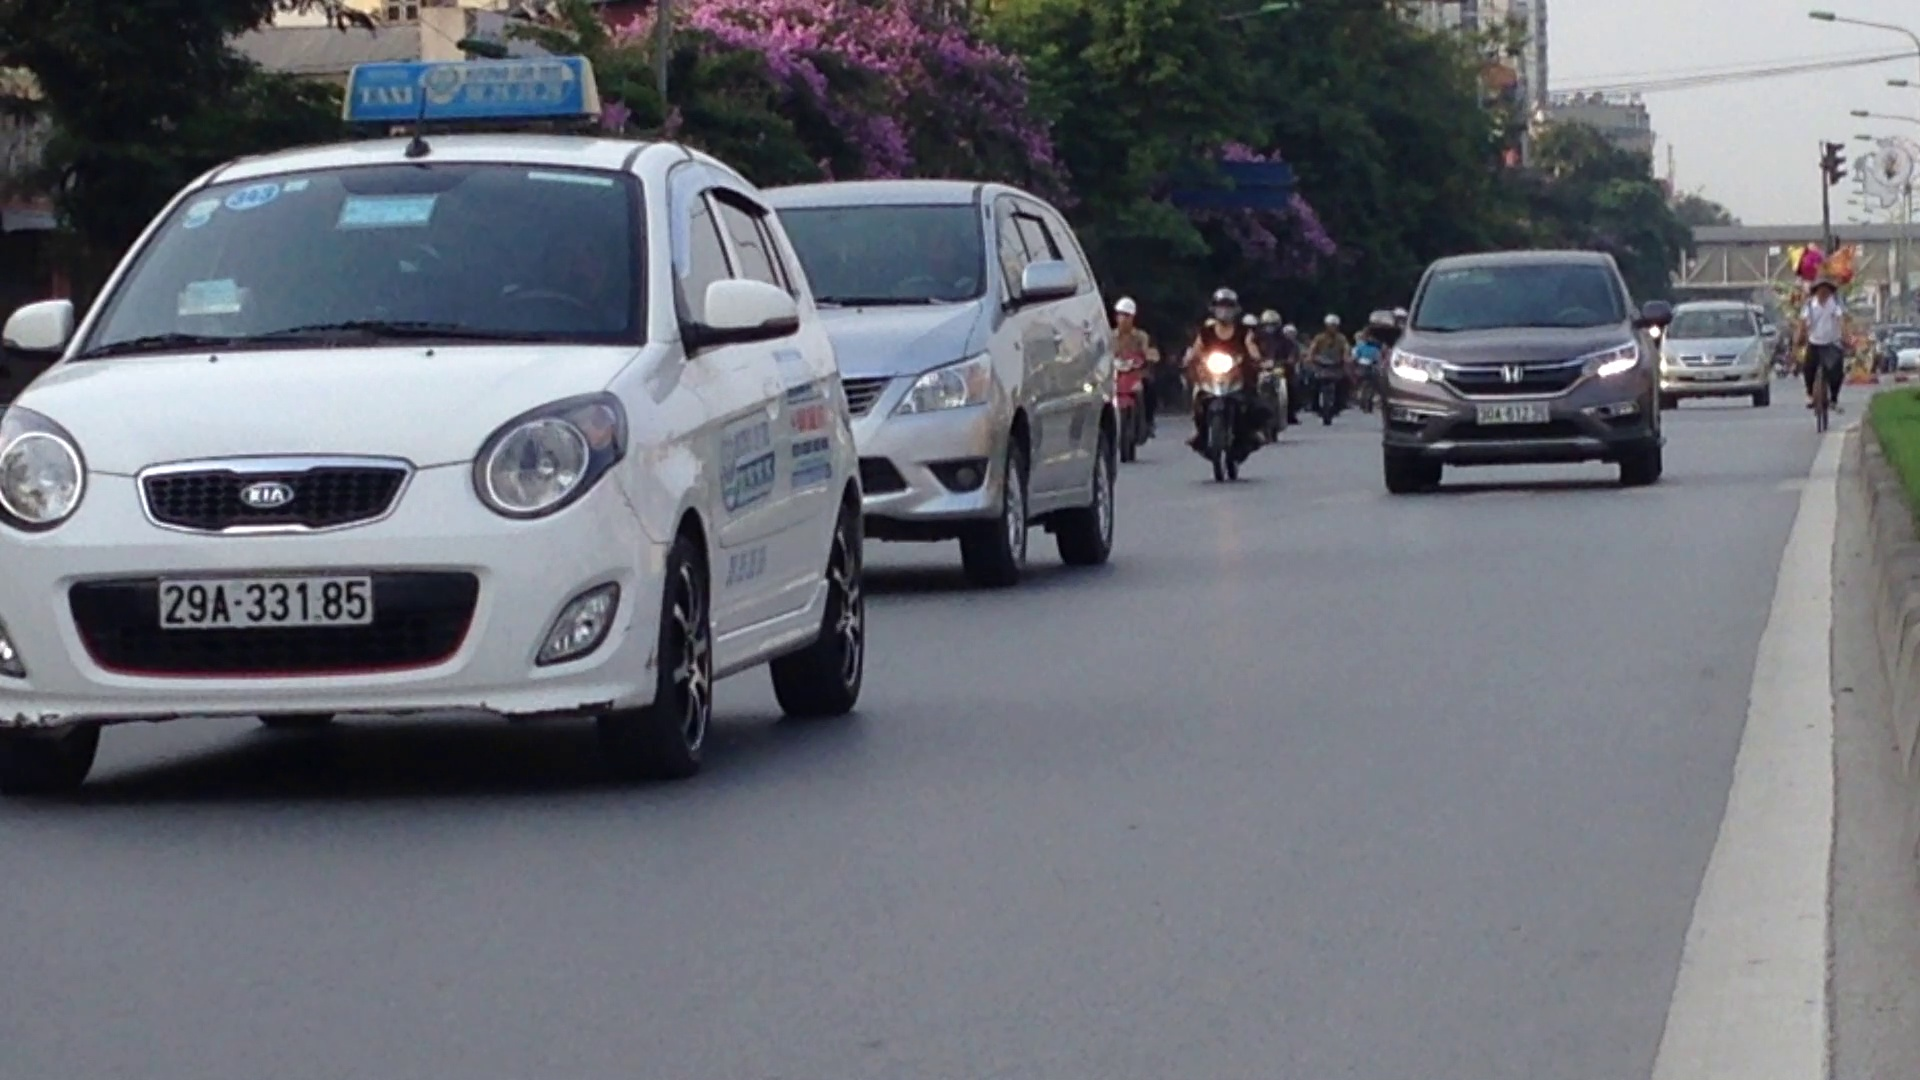person: (151, 573, 376, 628), (1472, 398, 1551, 426)
